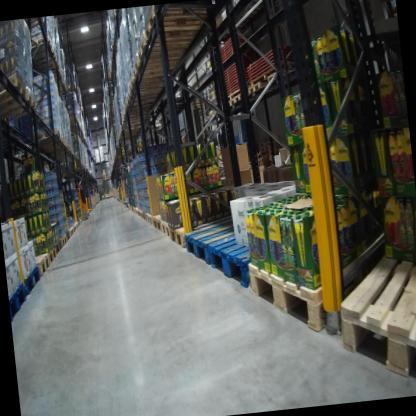pallet: (239, 211, 414, 343), (333, 222, 416, 386), (205, 202, 332, 294), (181, 207, 259, 270), (139, 3, 207, 48), (137, 26, 207, 65), (167, 216, 216, 253), (127, 68, 178, 94), (0, 87, 39, 120), (130, 50, 178, 76), (0, 69, 27, 110), (126, 83, 172, 105), (19, 260, 45, 296), (25, 125, 62, 149), (8, 282, 28, 321), (150, 207, 174, 237), (266, 66, 303, 83), (33, 250, 52, 282), (247, 78, 274, 97), (227, 90, 251, 109), (45, 246, 58, 267), (159, 217, 170, 237), (255, 142, 276, 152), (59, 81, 76, 93), (52, 237, 62, 256), (256, 136, 276, 145), (145, 211, 155, 228), (60, 233, 67, 252), (256, 149, 274, 156), (64, 230, 71, 243), (67, 228, 75, 238), (266, 155, 275, 161)
pallet_truck: (69, 159, 96, 221)
